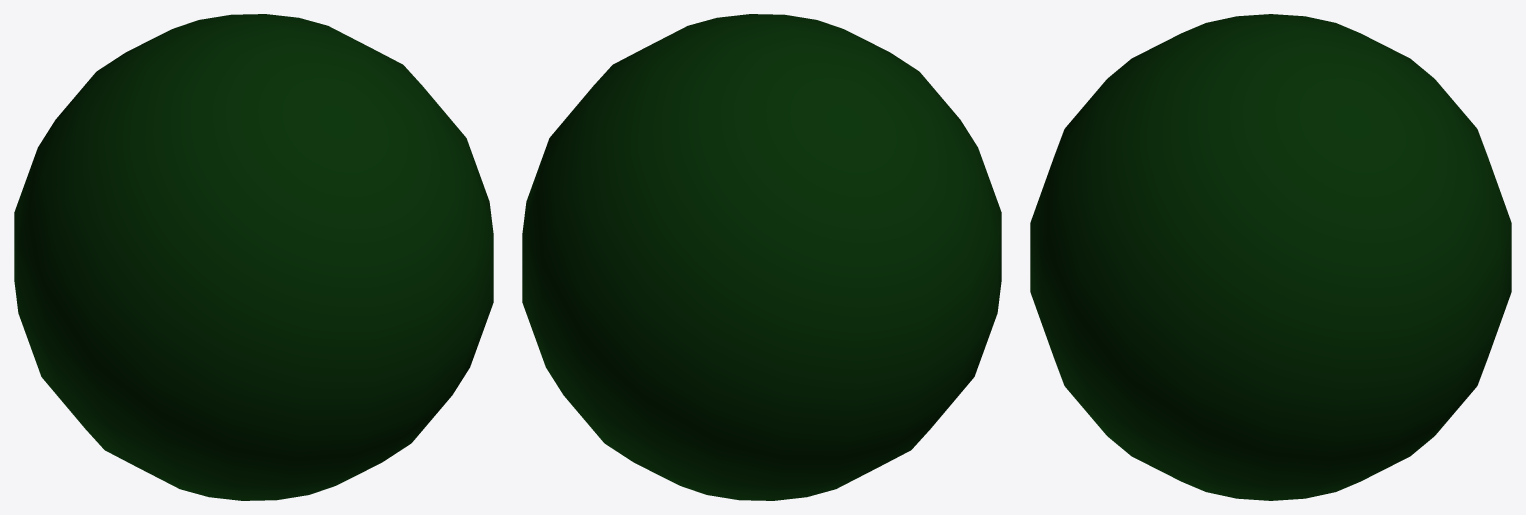
File: esfera.obj
3 renders of one model, left to right at view 1: azimuth 30°, elevation 25°; view 2: azimuth 150°, elevation 25°; view 3: azimuth 270°, elevation 25°, orthographic.
Visible parts, largest first — view 1: OpenSCAD_Model; view 2: OpenSCAD_Model; view 3: OpenSCAD_Model.
Part boxes in pixels (x1,y1,x2,y2): OpenSCAD_Model: (14,14,493,500); OpenSCAD_Model: (522,14,1001,500); OpenSCAD_Model: (1030,14,1511,500).
Bounding box in the file's own units: 2.12 × 2.12 × 2.12.
